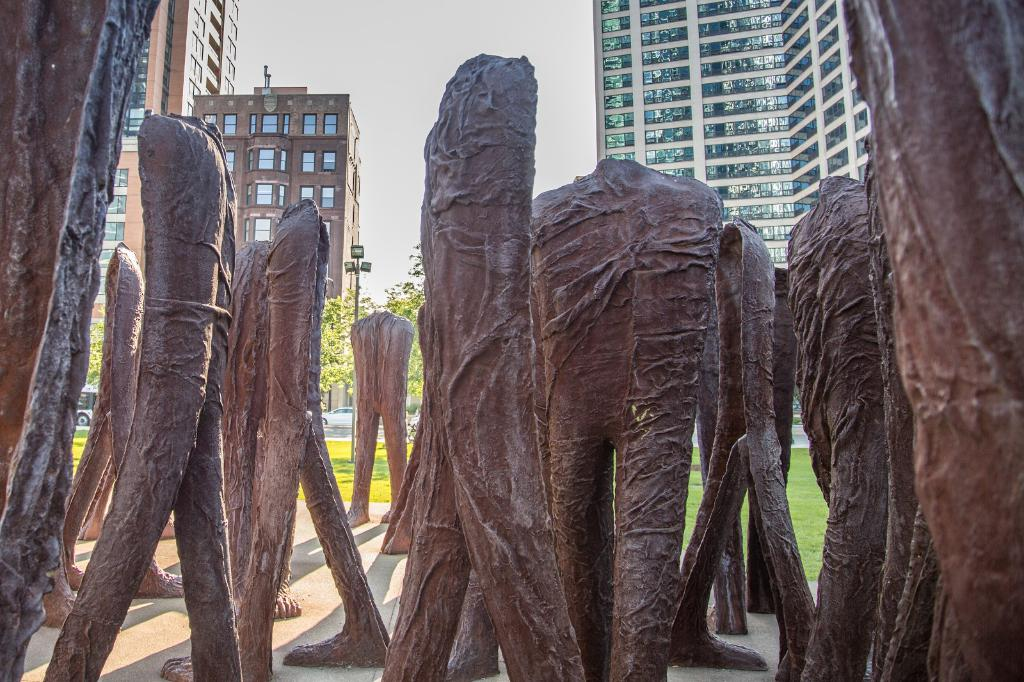Tree: (391, 246, 426, 408), (312, 295, 361, 396)
